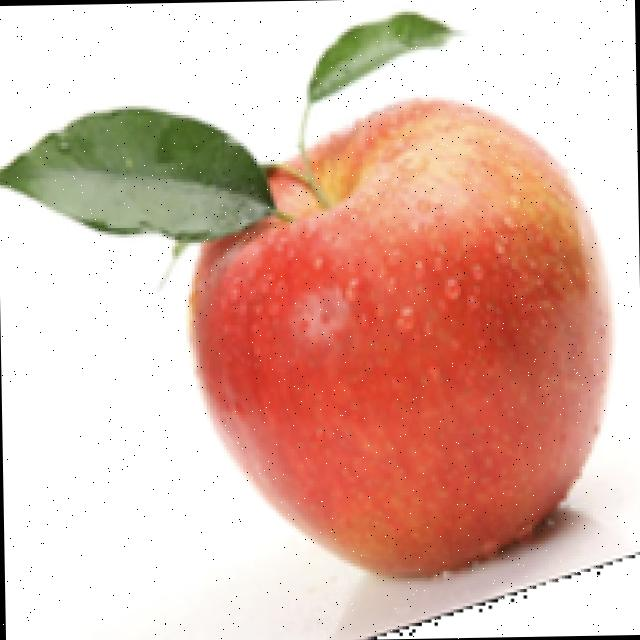apple: (0, 5, 640, 636)
